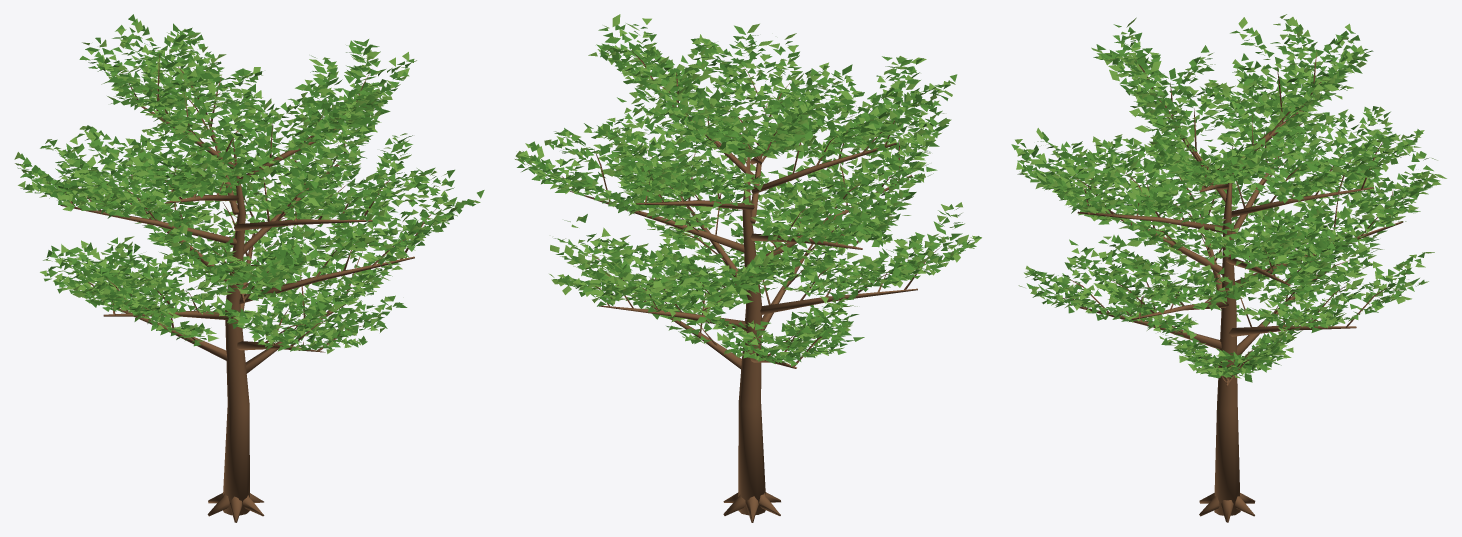
Rendered from oak-street-tree-lod.glb.
3 views of the same model, side by side, from view 1: azimuth 30°, elevation 25°; view 2: azimuth 150°, elevation 25°; view 3: azimuth 270°, elevation 25° (orthographic). The views are drawn at different scales.
Visible parts, largest first — view 1: Foliage 1, Foliage 0, Foliage 2, Leaf twig; view 2: Foliage 2, Foliage 1, Foliage 0, Leaf twig; view 3: Foliage 2, Foliage 1, Foliage 0, Leaf twig.
Part boxes in pixels (<box>): Foliage 1: <box>17,18,484,351</box>; Foliage 0: <box>19,14,475,350</box>; Foliage 2: <box>14,20,480,353</box>; Leaf twig: <box>60,54,440,522</box>; Foliage 2: <box>515,14,981,363</box>; Foliage 1: <box>517,24,981,366</box>; Foliage 0: <box>517,25,973,363</box>; Leaf twig: <box>562,50,941,522</box>; Foliage 2: <box>1015,14,1446,378</box>; Foliage 1: <box>1011,20,1439,377</box>; Foliage 0: <box>1020,19,1432,382</box>; Leaf twig: <box>1058,52,1403,522</box>.
Bounding box in the file's own units: 7.76 × 8.55 × 7.57.
